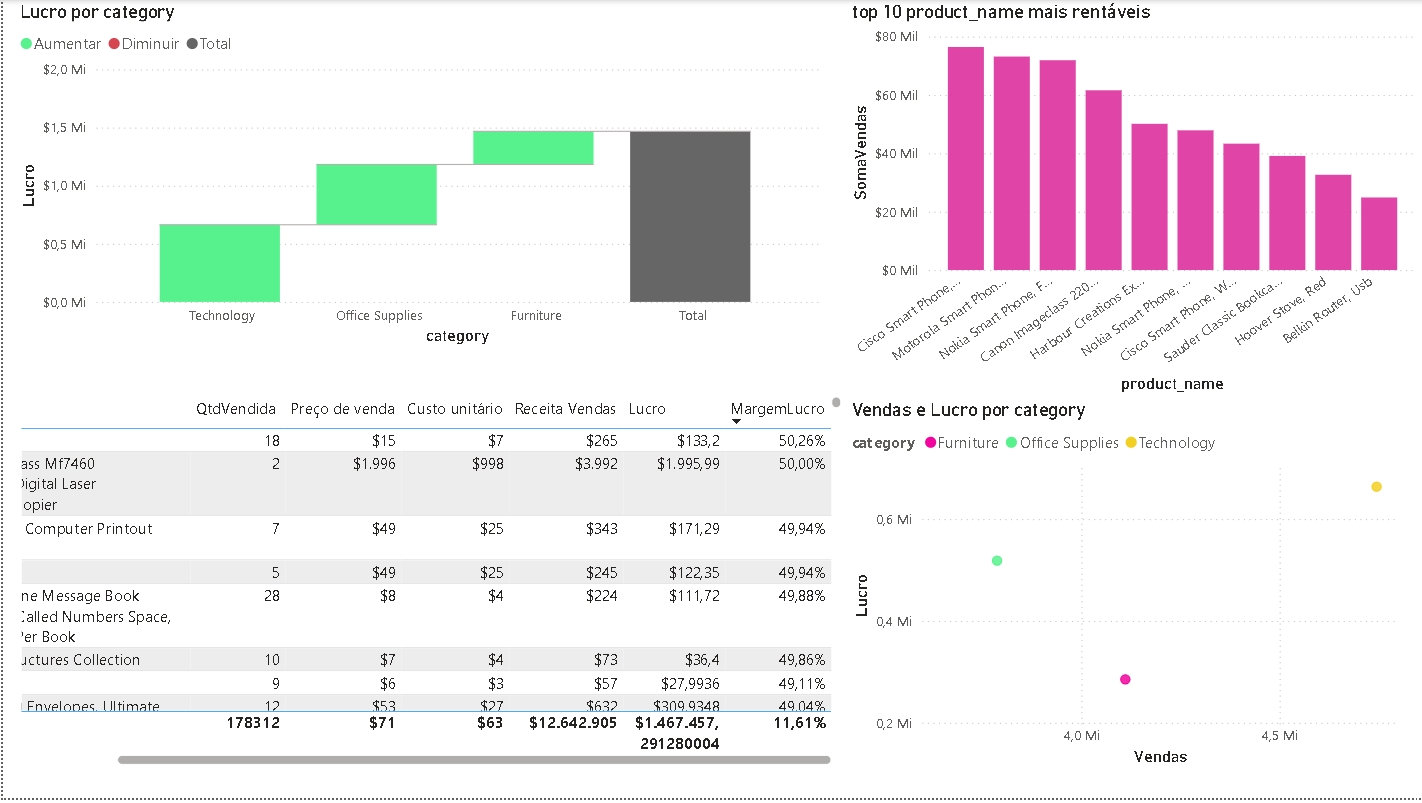

Layout of this report page (visuals, bound fields, positions):
{"tool":"powerbi","page":{"name":"Análise de Produto","canvas":[1280,720],"ordinal":2},"visuals":[{"type":"waterfallChart","fields":{"Category":["dim_produto.category","dim_produto.sub_category"],"Y":["Medidas.SomaProfit"]},"box":[10,0,730.2,316],"z":0},{"type":"tableEx","fields":{"Values":["dim_produto.product_name","Medidas.Somaquantify","Medidas.Unit Selling Price","Medidas.Unit Cost","Medidas.SomaVendas","Medidas.SomaProfit","Medidas.MargemLucro"]},"box":[9.6,352.7,750.6,341.7],"z":1000},{"type":"scatterChart","fields":{"Series":["dim_produto.category"],"Y":["Sum(fato_vendas.profit)"],"X":["Sum(fato_vendas.sales)"]},"box":[761.3,359.5,518.7,335.9],"z":2000},{"type":"columnChart","title":"top 10 product_name mais rentáveis","fields":{"Category":["dim_produto.product_name"],"Y":["Medidas.SomaVendas"]},"box":[761.3,0,518.7,359.5],"z":3000}]}

Visuals, with their boxes in screenshot pixels (x1, y1, x2, y2), scaled from the page's 1280x720 canvas onto the 1422x803 screenshot:
waterfallChart - dim_produto.category x dim_produto.sub_category: crop(11, 0, 822, 352)
tableEx - dim_produto.product_name x Medidas.Somaquantify: crop(11, 393, 845, 774)
scatterChart - dim_produto.category x Sum(fato_vendas.profit): crop(846, 401, 1421, 776)
"top 10 product_name mais rentáveis" columnChart: crop(846, 0, 1421, 401)
